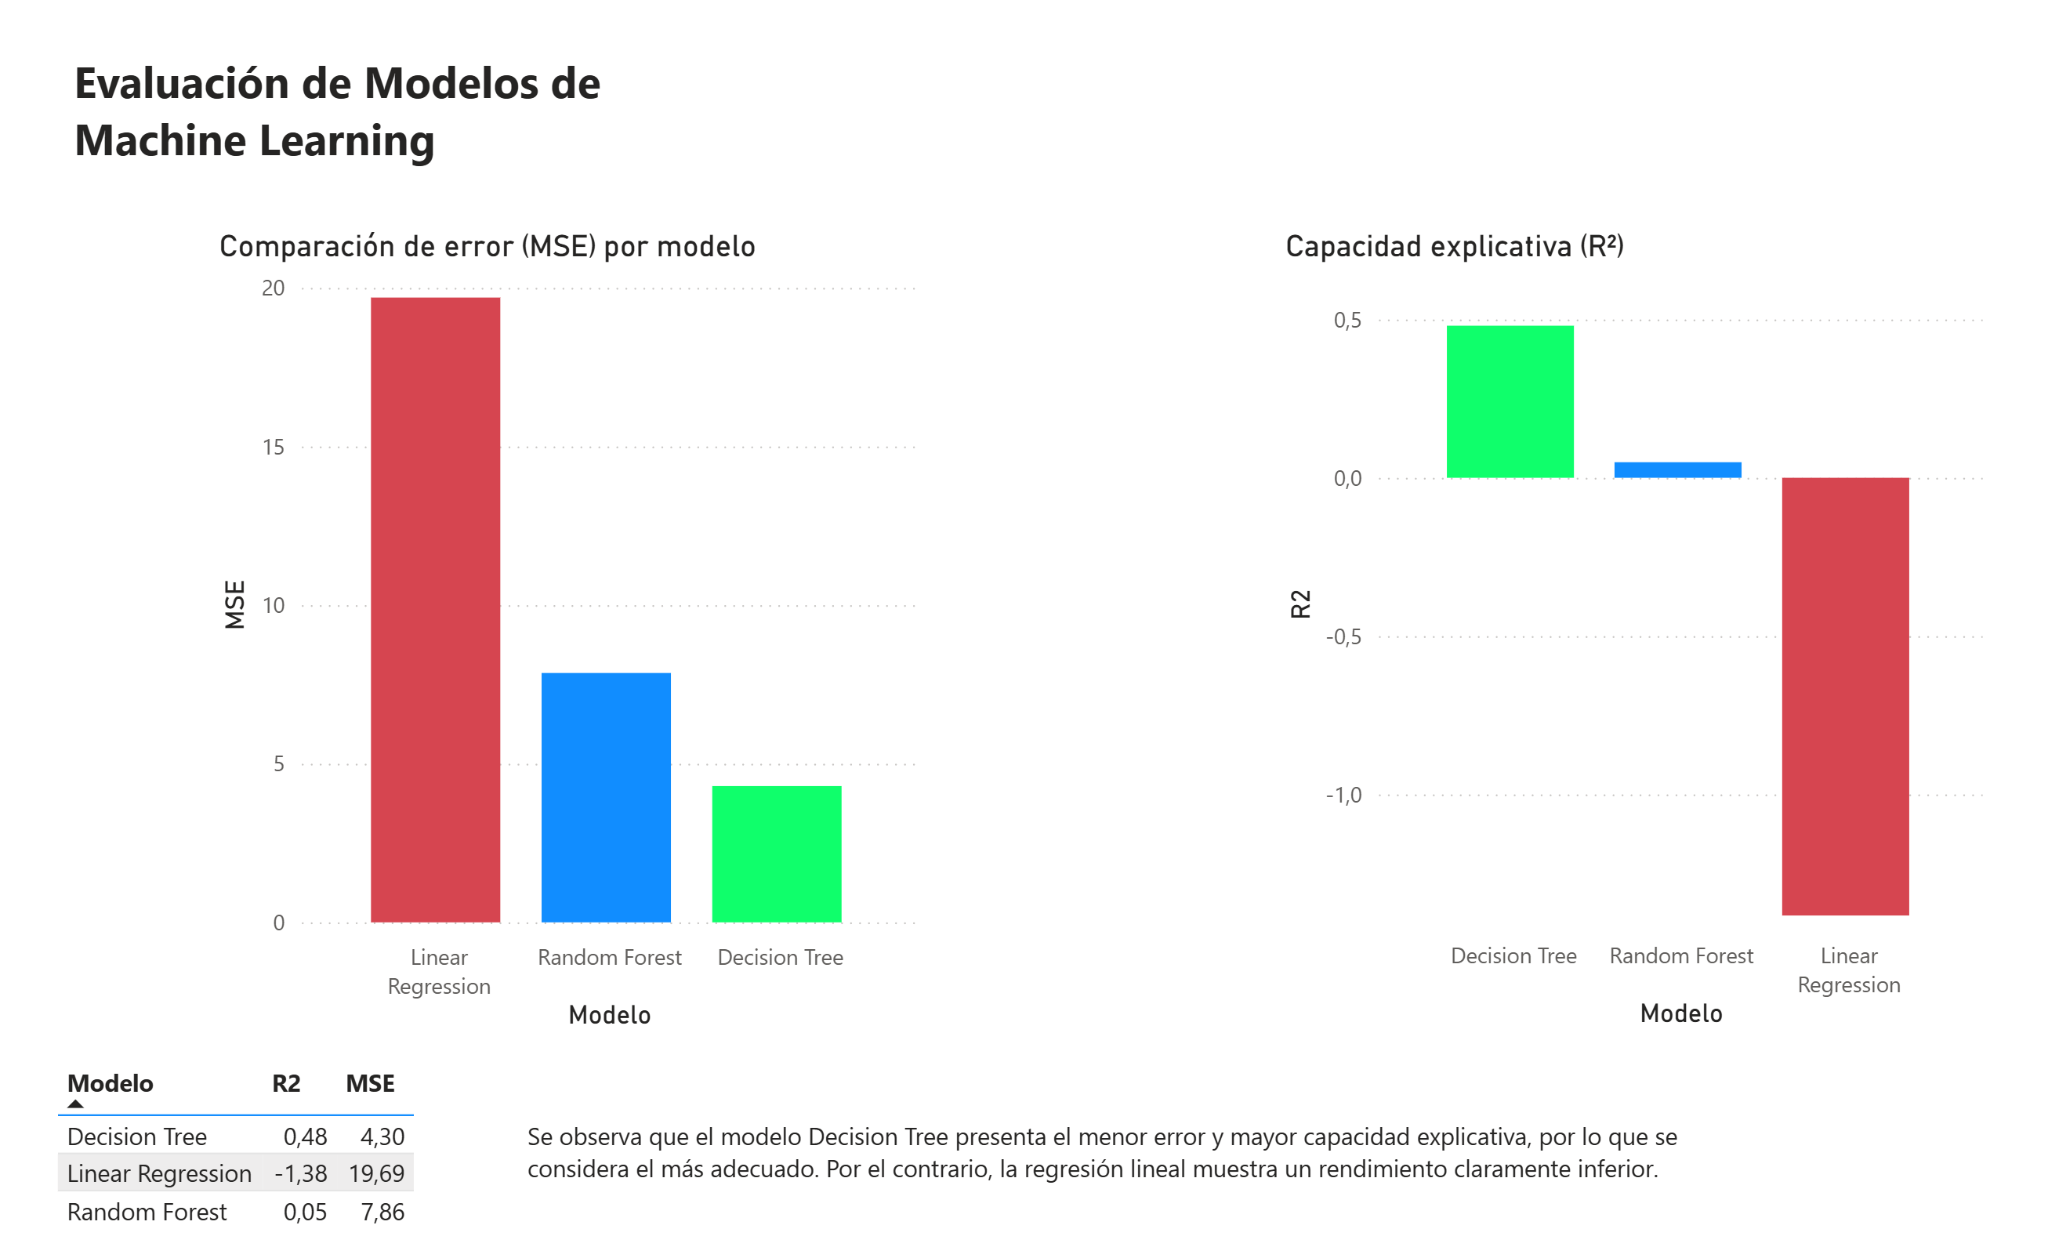

This screenshot's page, from the dashboard's own definition file:
{"tool":"powerbi","page":{"name":"Gráfico de barras","canvas":[1280,720],"ordinal":1},"visuals":[{"type":"tableEx","fields":{"Values":["resultados_modelos.Modelo","resultados_modelos.R2","resultados_modelos.MSE"]},"box":[36.7,595.1,361.7,124.6],"z":0},{"type":"clusteredColumnChart","title":"Comparación de error (MSE) por modelo","fields":{"Category":["resultados_modelos.Modelo"],"Y":["Avg(resultados_modelos.MSE)"]},"box":[127.5,134.7,397.7,450.3],"z":1000},{"type":"clusteredColumnChart","title":"Capacidad explicativa (R²)","fields":{"Category":["resultados_modelos.Modelo"],"Y":["Avg(resultados_modelos.R2)"]},"box":[720.5,134.7,397.7,449.6],"z":2000},{"type":"textbox","box":[46.4,31.4,397.6,77.8],"z":3000},{"type":"textbox","box":[299,625.4,698.8,65.6],"z":4000}]}

Visuals, with their boxes on the page's 1280x720 design canvas (x1, y1, x2, y2). These are canvas units, not pixel positions in the 2048x1258 screenshot, which may show the page scaled, cropped or inside an application window:
tableEx - resultados_modelos.Modelo x resultados_modelos.R2: detection(37, 595, 398, 720)
"Comparación de error (MSE) por modelo" clusteredColumnChart: detection(128, 135, 525, 585)
"Capacidad explicativa (R²)" clusteredColumnChart: detection(720, 135, 1118, 584)
textbox: detection(46, 31, 444, 109)
textbox: detection(299, 625, 998, 691)
